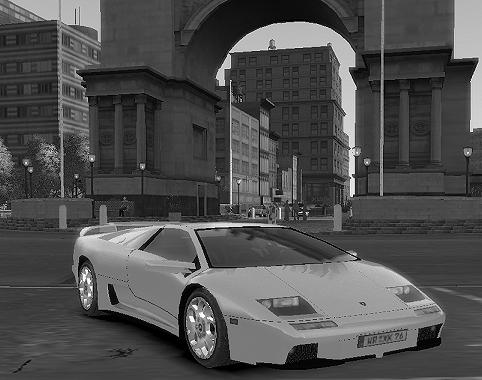car: (74, 224, 448, 368)
